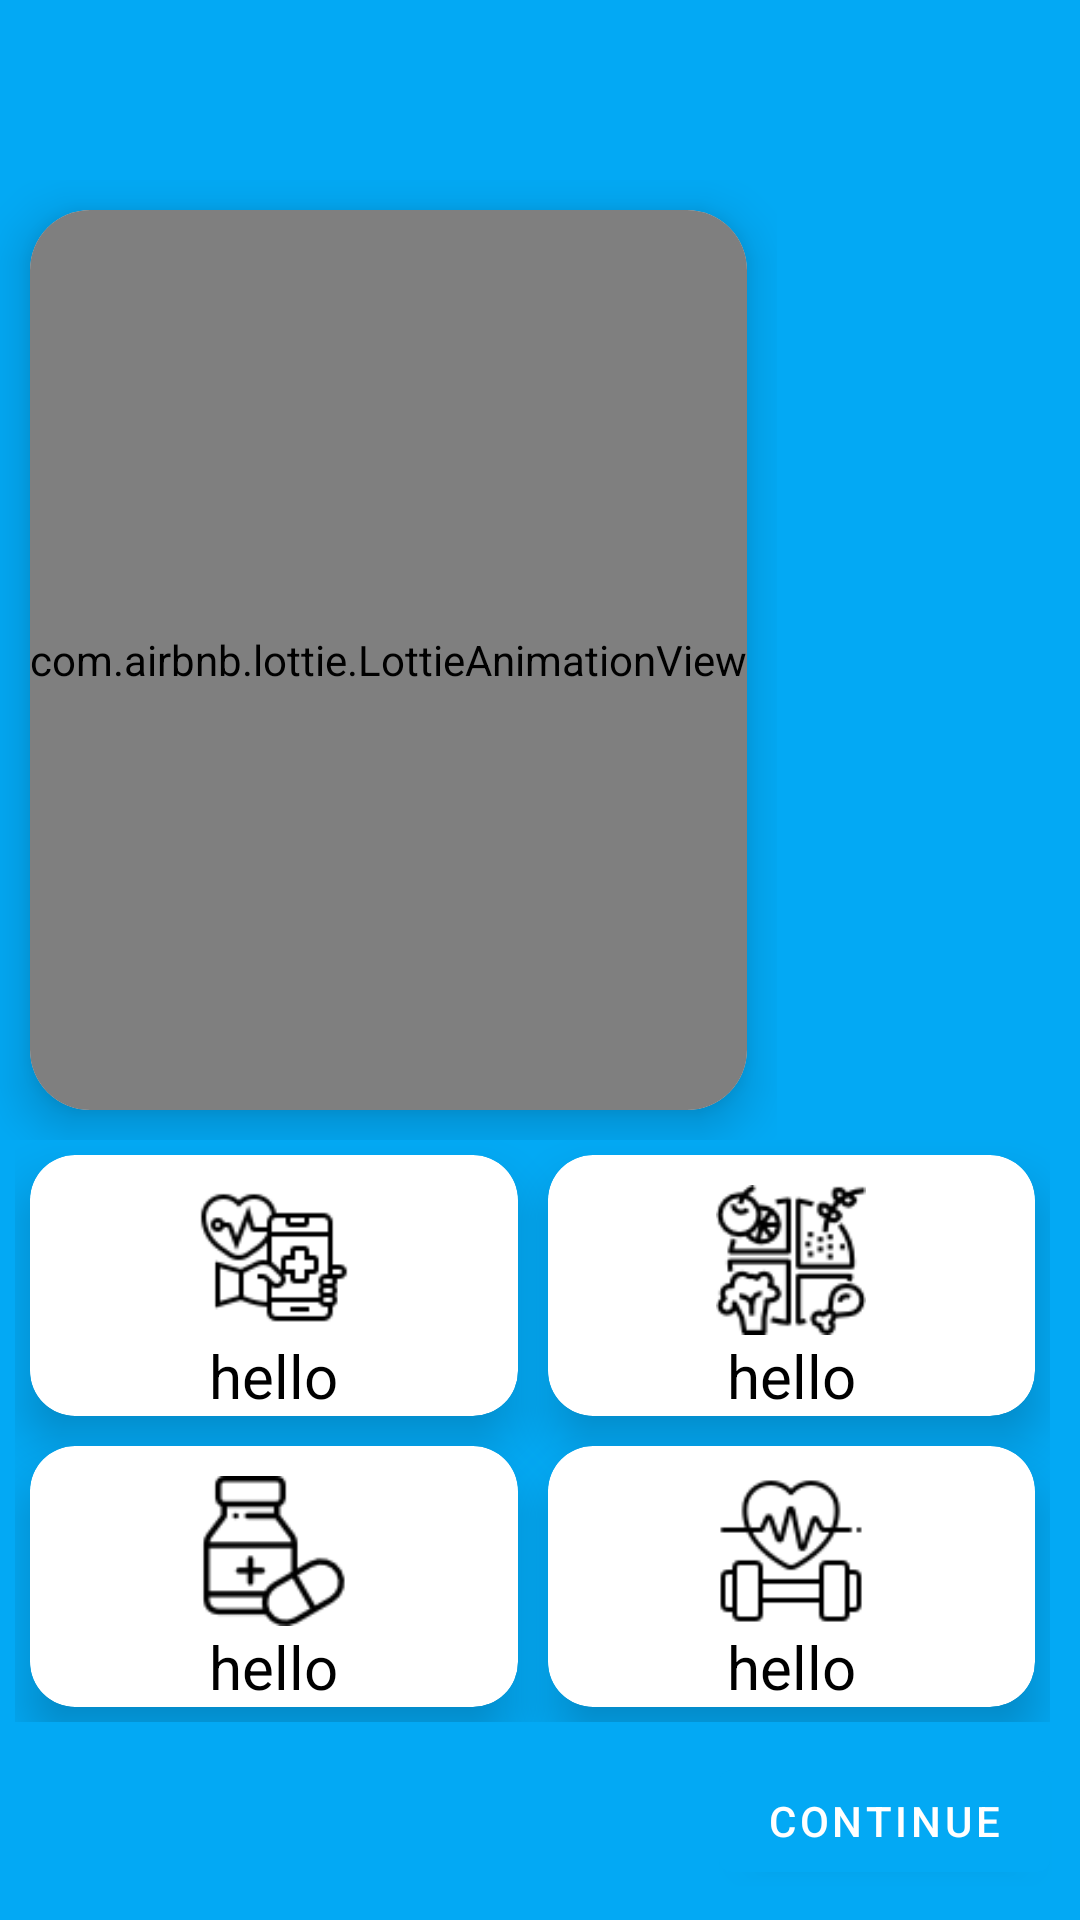

Icon bounding boxes for this 1080px x 1920px phone screenshot, format bbox(x1, y1, x2, y2):
fitness: bbox(720, 1480, 862, 1622)
healthcare: bbox(200, 1193, 348, 1322)
medicine: bbox(203, 1476, 345, 1626)
nutrition: bbox(716, 1185, 866, 1335)
